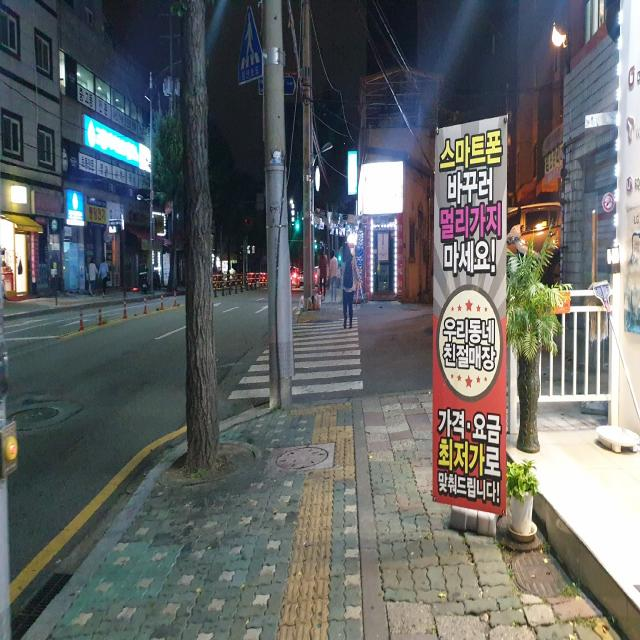횡단보도: (227, 316, 365, 402)
